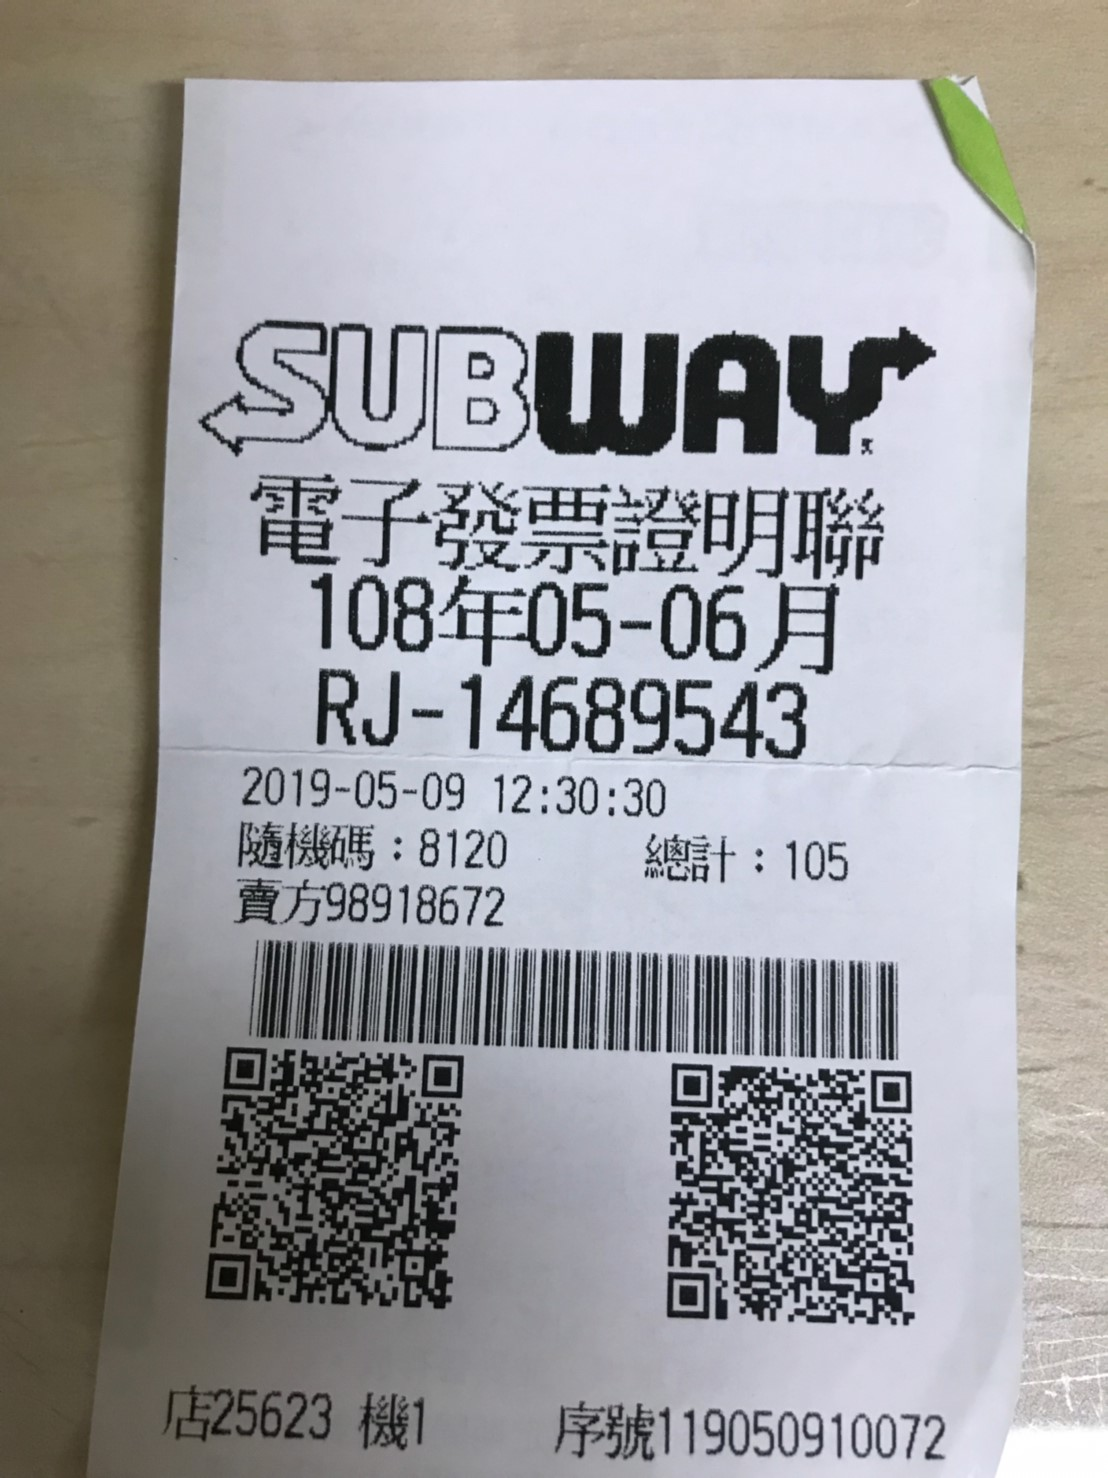Date_New: (306, 567, 841, 678)
Number_New: (457, 672, 807, 760)
